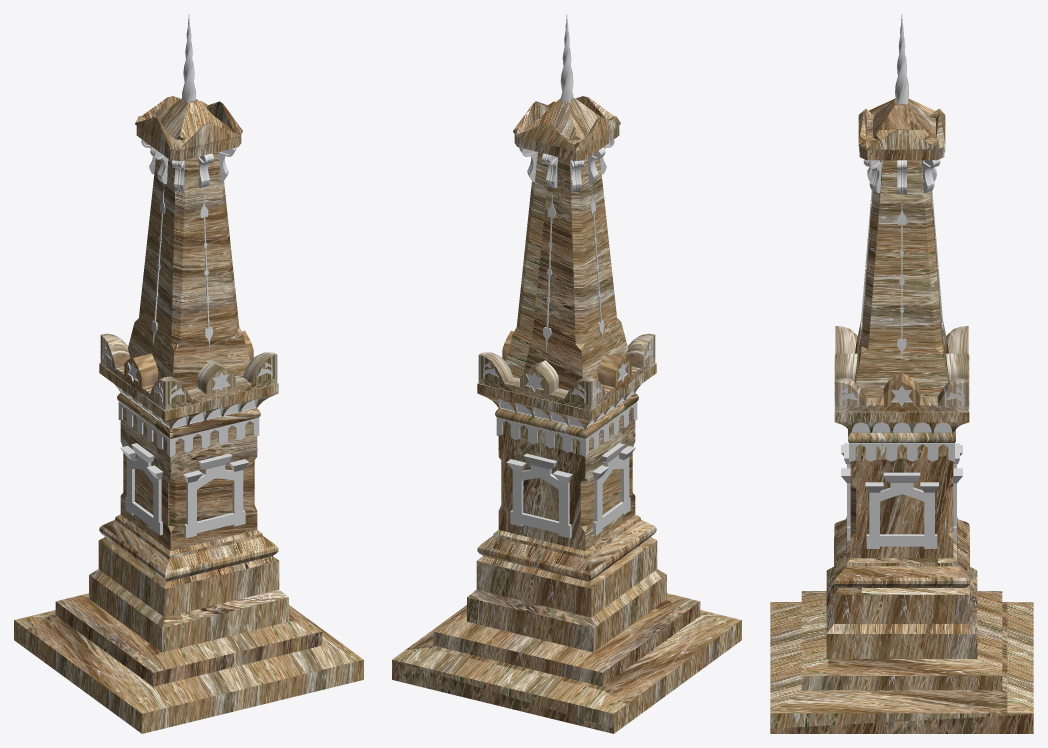
The model's file is Tugu Jogja.fbx.
The picture shows the model from 3 angles, left to right: view 1: azimuth 30°, elevation 25°; view 2: azimuth 150°, elevation 25°; view 3: azimuth 270°, elevation 25°; orthographic projection. The views are drawn at different scales.
Parts seen in each view (by area): view 1: Cube, Cube.002, Cube.001, Plane, Cube.003, Cube.005, Plane.001; view 2: Cube, Cube.002, Cube.001, Plane, Cube.003, Cube.005, Plane.001; view 3: Cube, Cube.002, Cube.001, Cube.003, Plane, Cube.005, Plane.001.
Boxes of the visible parts, <box> form: Cube: <box>14,96,363,733</box>; Cube.002: <box>100,331,277,410</box>; Cube.001: <box>120,443,257,538</box>; Plane: <box>118,402,259,457</box>; Cube.003: <box>141,139,236,191</box>; Cube.005: <box>151,190,212,350</box>; Plane.001: <box>181,15,196,102</box>; Cube: <box>392,96,741,733</box>; Cube.002: <box>478,331,655,410</box>; Cube.001: <box>498,443,635,538</box>; Plane: <box>496,402,637,457</box>; Cube.003: <box>519,139,614,191</box>; Cube.005: <box>543,190,604,350</box>; Plane.001: <box>560,15,573,102</box>; Cube: <box>770,98,1033,733</box>; Cube.002: <box>835,326,968,411</box>; Cube.001: <box>841,443,962,548</box>; Cube.003: <box>859,147,945,193</box>; Plane: <box>849,443,954,461</box>; Cube.005: <box>859,191,944,359</box>; Plane.001: <box>895,14,908,104</box>.
Bounding box in the file's own units: 145 × 404 × 145.
